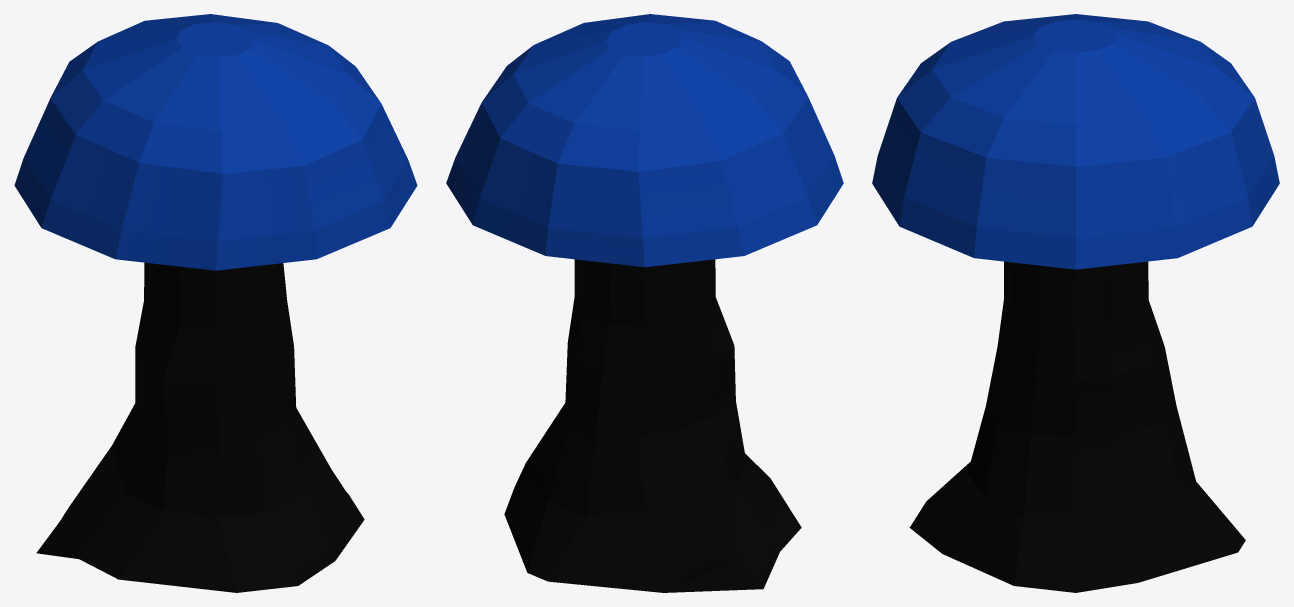
File: Mushroom05_HT.fbx
3 views of the same model, side by side, from view 1: azimuth 30°, elevation 25°; view 2: azimuth 150°, elevation 25°; view 3: azimuth 270°, elevation 25° (orthographic). The views are drawn at different scales.
Parts seen in each view (by area): view 1: Mushroom05_HT; view 2: Mushroom05_HT; view 3: Mushroom05_HT.
Boxes of the visible parts, x1,y1,x2,y2 form: Mushroom05_HT: [14, 14, 417, 592]; Mushroom05_HT: [446, 14, 843, 592]; Mushroom05_HT: [872, 14, 1279, 592].
Bounding box in the file's own units: 42.34 × 57.81 × 42.34.
